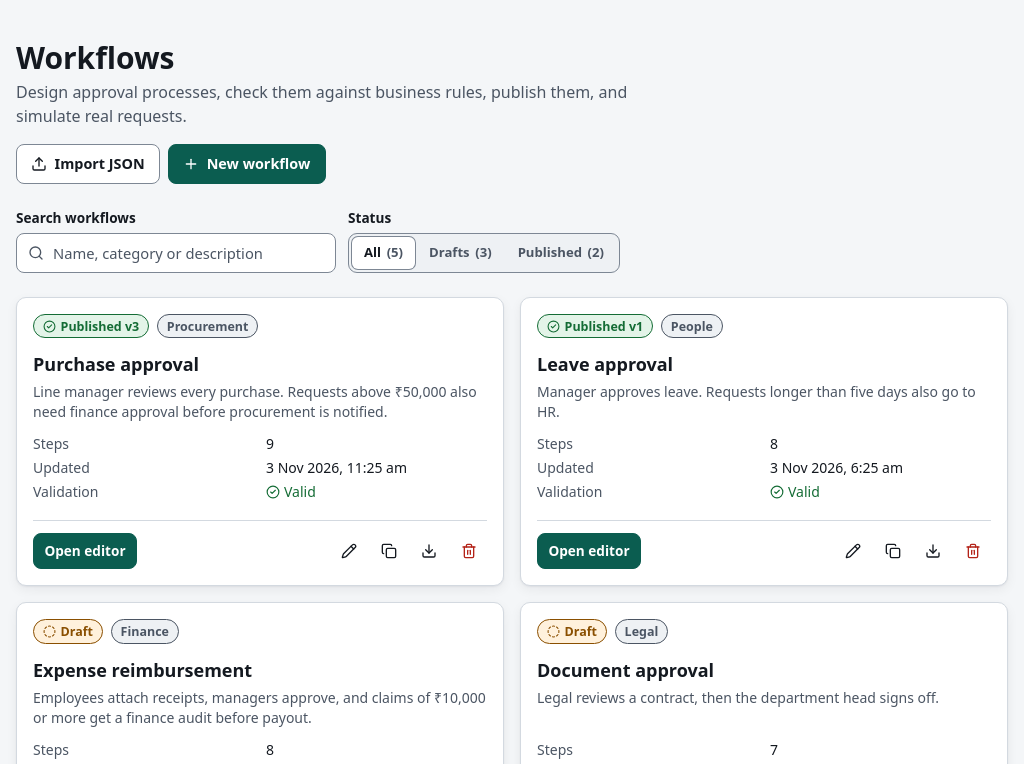
Test case: WorkflowsPage › confirms before deleting
Click the button named "Delete Leave approval" at (973, 551), box [955,533,991,569]
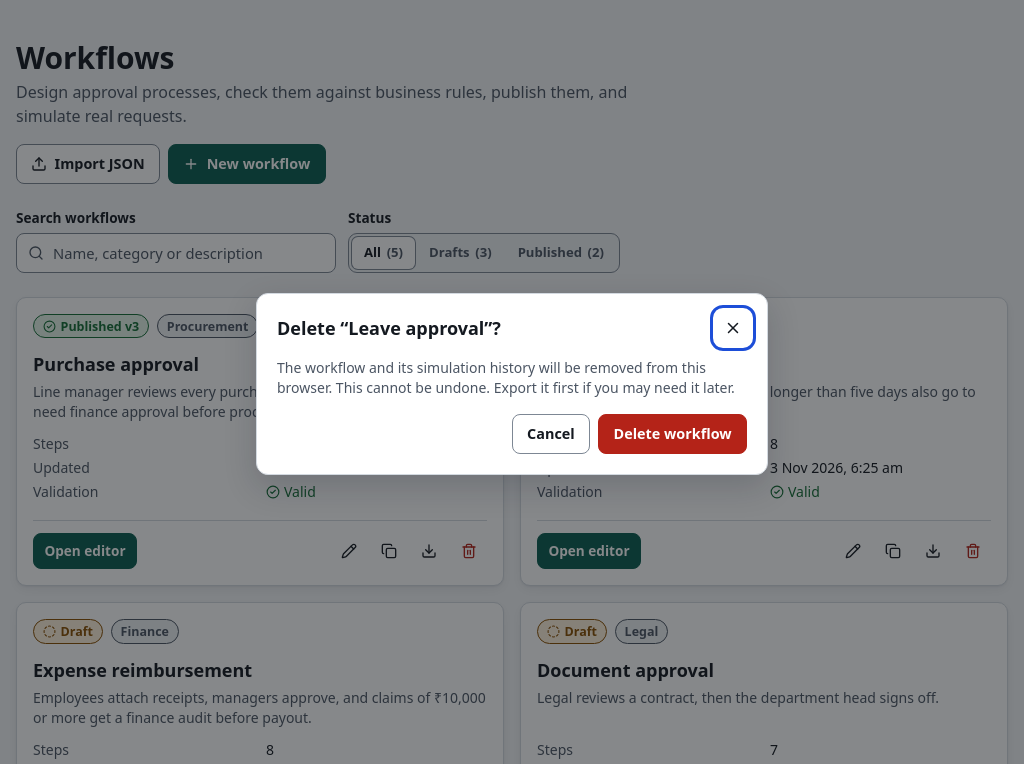
expect the text "cannot be undone" is shown: met, box [277,358,735,397]
Click the button "Delete workflow" at (673, 434), box [598,414,747,454]
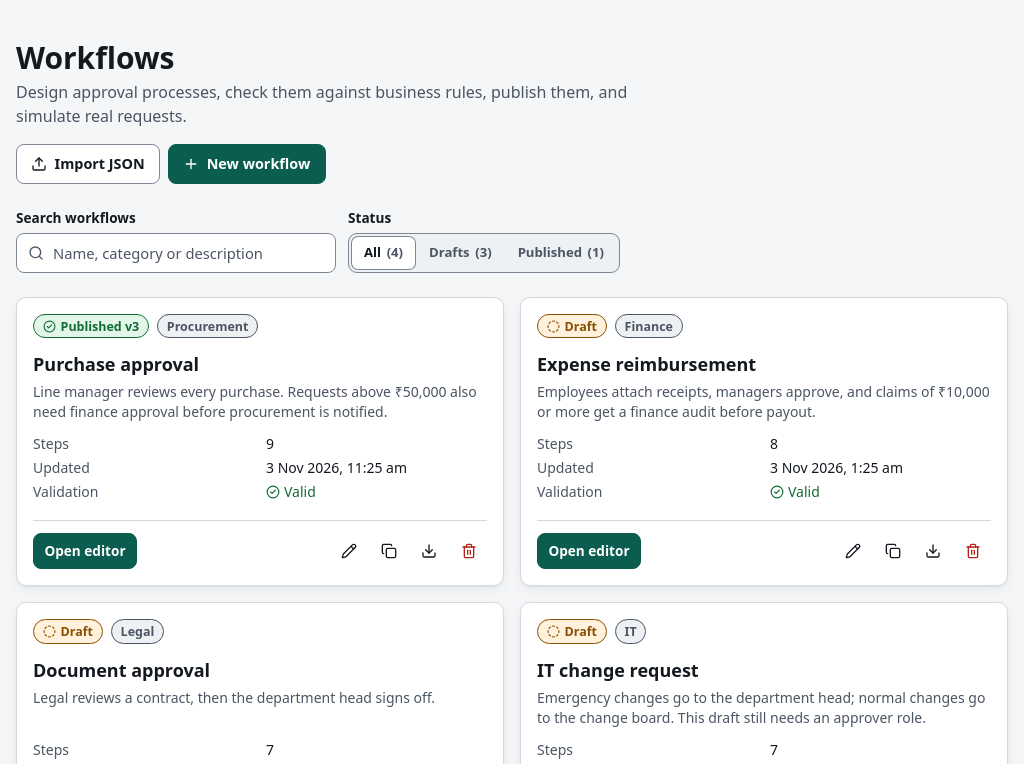
expect the link "Leave approval" is gone: met
